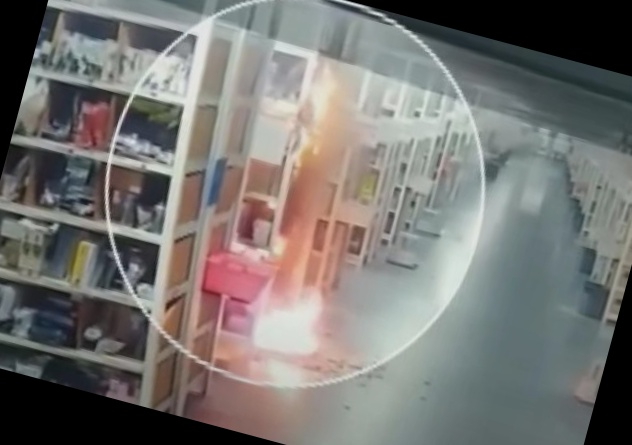fire: (229, 55, 405, 379)
